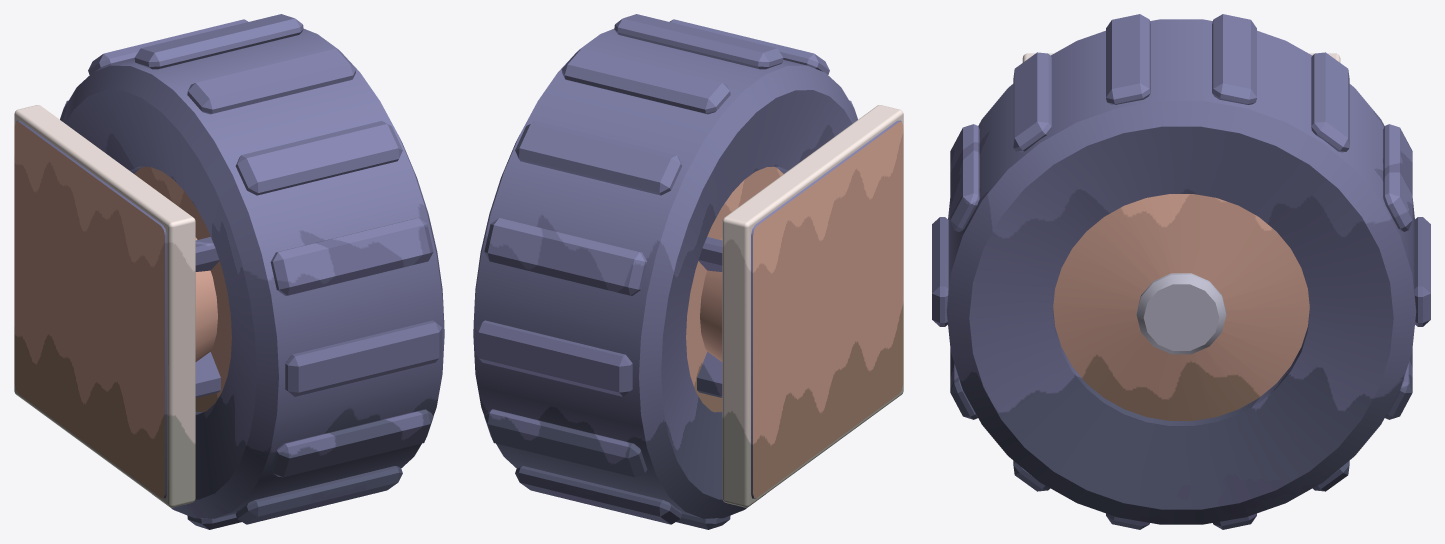
Rendered from R4M_WheelM_Side_Offroad.glb.
3 renders of one model, left to right at view 1: azimuth 30°, elevation 25°; view 2: azimuth 150°, elevation 25°; view 3: azimuth 270°, elevation 25°, orthographic.
Visible parts, largest first — view 1: R4M_WheelM_Side_Offroad_Rotor, R4M_WheelM_Side_Offroad_Mount; view 2: R4M_WheelM_Side_Offroad_Rotor, R4M_WheelM_Side_Offroad_Mount; view 3: R4M_WheelM_Side_Offroad_Rotor.
Part boxes in pixels (x1=…): R4M_WheelM_Side_Offroad_Rotor: x1=60, y1=14, x2=444, y2=529; R4M_WheelM_Side_Offroad_Mount: x1=14, y1=105, x2=220, y2=507; R4M_WheelM_Side_Offroad_Rotor: x1=473, y1=14, x2=857, y2=529; R4M_WheelM_Side_Offroad_Mount: x1=697, y1=105, x2=903, y2=507; R4M_WheelM_Side_Offroad_Rotor: x1=932, y1=14, x2=1430, y2=529.
Bounding box in the file's own units: 0.452 × 0.7665 × 0.776.
Materials: 4 (4 with a texture image).
